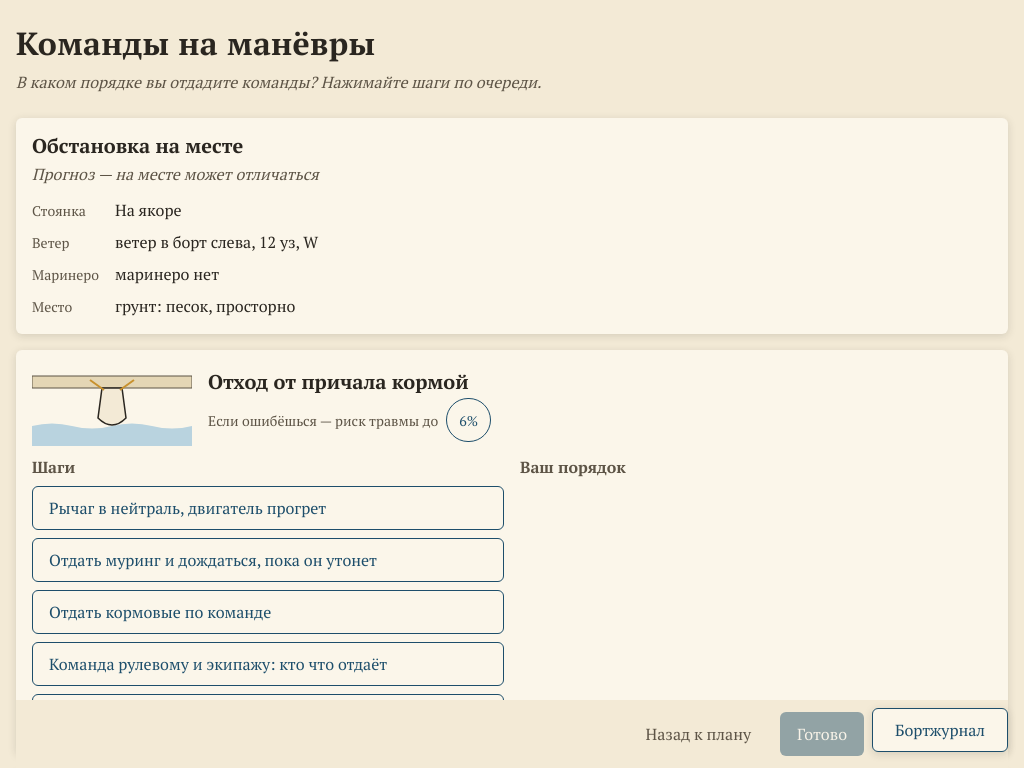
Scenario: ManeuversScreen › shows the injury risk of each maneuver with a breakdown
This screenshot has width=1024, height=768.
What coordinates should you click on to do the following:
click the button "6%"
I would click on:
 (469, 420)
Its box is [446,398,491,442].
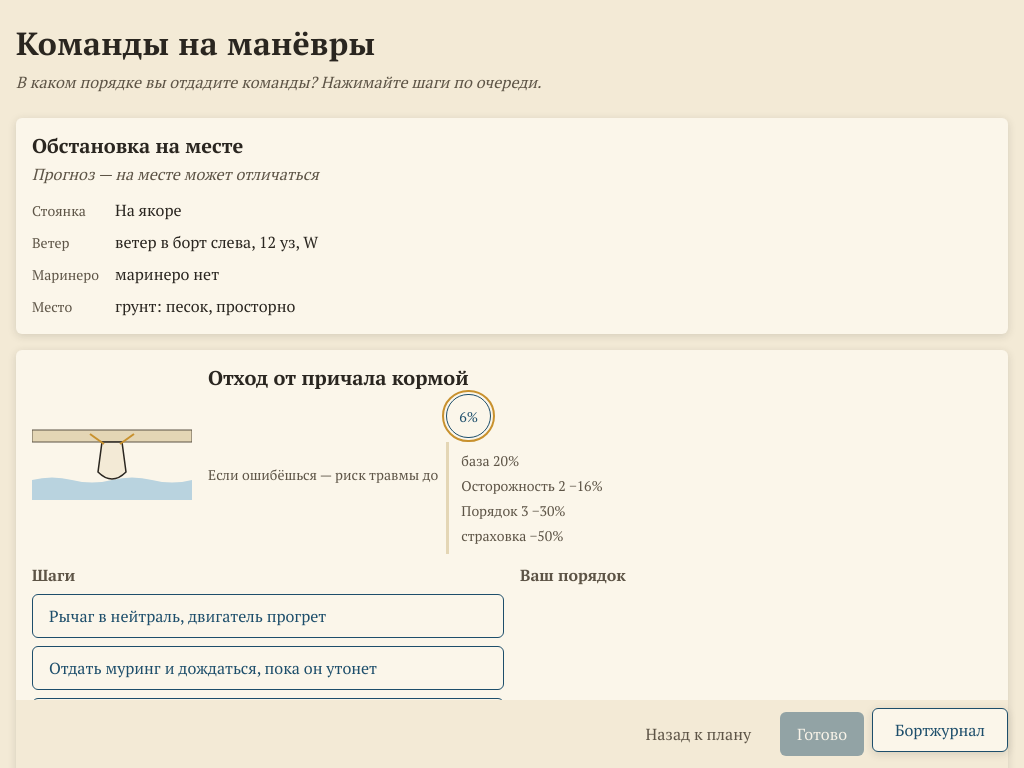
Result: the button "6%" is expanded at [446,394,491,438]
